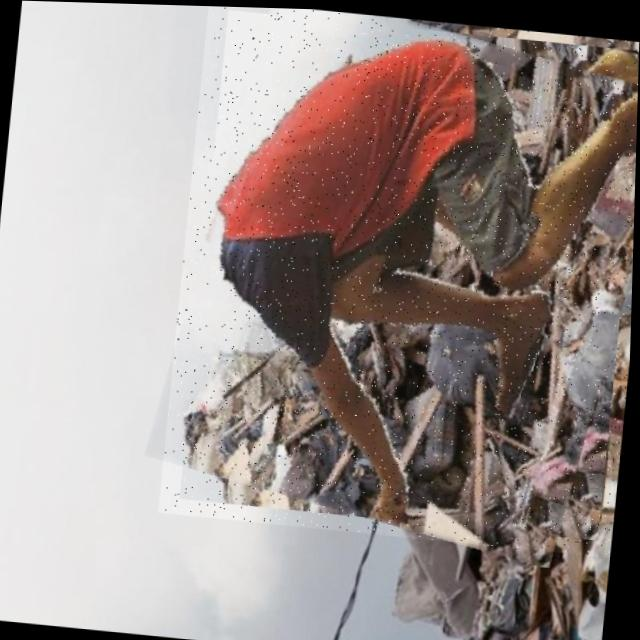Person in Rubble: (160, 4, 640, 552)
